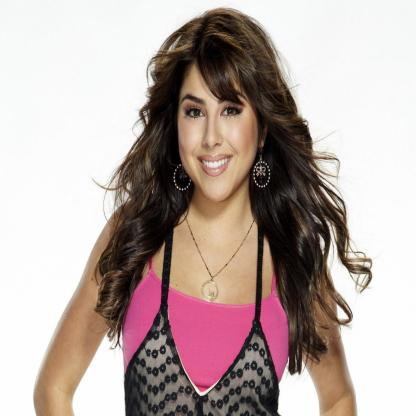long-hair: (115, 200, 324, 243)
